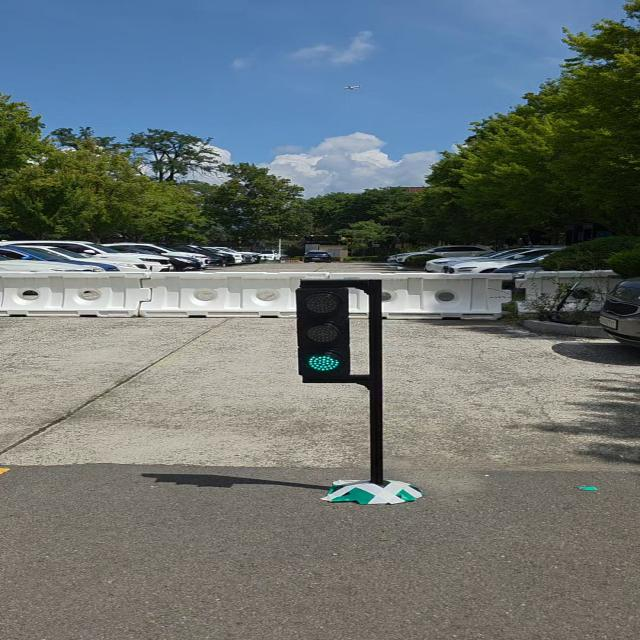green: (295, 282, 351, 381)
